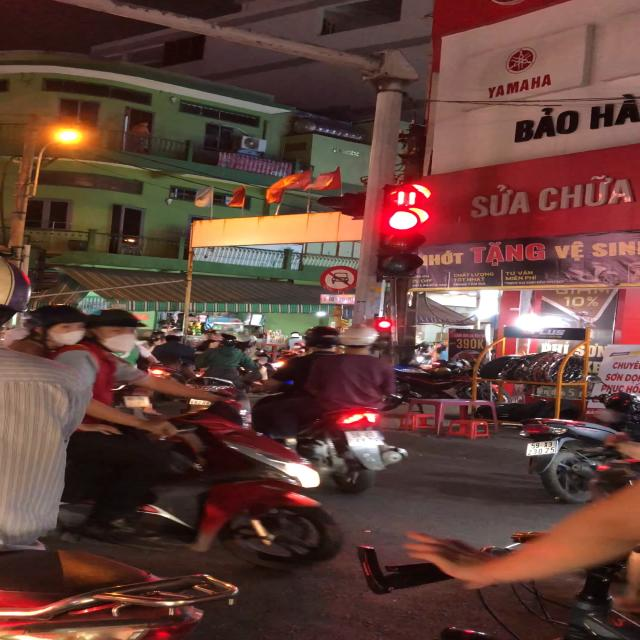Bien bao cam xe oto: (320, 265, 360, 294)
